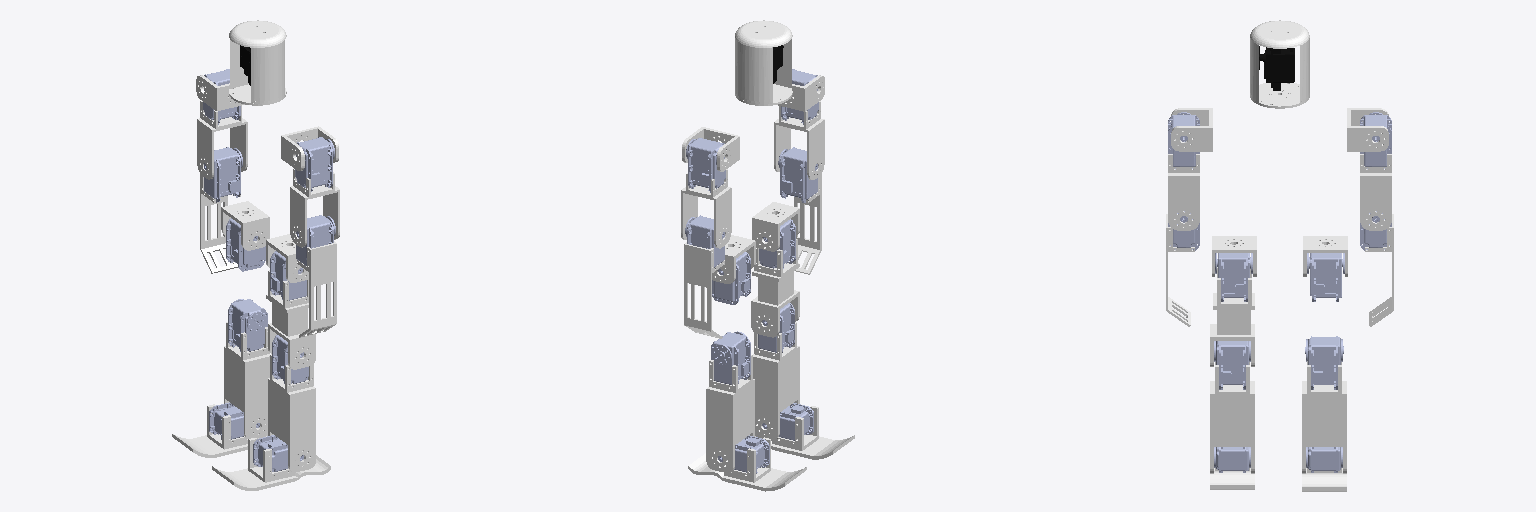
--- Render facts (derived) ---
The picture shows the robot from 3 angles, left to right: view 1: azimuth 30°, elevation 25°; view 2: azimuth 150°, elevation 25°; view 3: azimuth 270°, elevation 25°; orthographic projection.
Model Humanoid_trial_v1 with 29 links and 28 joints (15 revolute, 13 fixed), rooted at base_link, posed every joint at zero.
Links seen in each view (by area): view 1: Head_Horizontal_Link, Left_Calf_Link, Right_Calf_Link, Left_Thigh_Link, Left_Lower_Shoulder_Motor_Link, Left_Foot_Link, Right_Mid_Shoulder_Motor_Link, Left_Mid_Shoulder_Motor_Link, Right_Thigh_Joint, Right_Rot_Hip_Link, Right_Lower_Shoulder_Motor_Joint, Left_Mid_Shoulder_Motor_Joint (+12 smaller); view 2: Head_Horizontal_Link, Right_Calf_Link, Left_Calf_Link, Left_Thigh_Link, Right_Lower_Shoulder_Motor_Link, Left_Mid_Shoulder_Motor_Link, Right_Mid_Shoulder_Motor_Link, Right_Foot_Link, Right_Thigh_Joint, Left_Foot_Link, Right_Mid_Shoulder_Motor_joint, Left_Lower_Shoulder_Motor_Joint (+12 smaller); view 3: Head_Horizontal_Link, Right_Calf_Link, Left_Calf_Link, Left_Thigh_Link, Right_Mid_Shoulder_Motor_Link, Left_Mid_Shoulder_Motor_Link, Right_Thigh_Joint, Right_Hip_Joint, Left_Hip_Joint, Left_Thigh_Joint, Right_Upper_Shoulder_Link, Left_Upper_Shoulder_Motor_Link (+13 smaller).
Boxes of the visible links, x1,y1,x2,y2 form: Head_Horizontal_Link: (229, 20, 286, 105); Left_Calf_Link: (268, 354, 315, 472); Right_Calf_Link: (224, 322, 269, 438); Left_Thigh_Link: (266, 270, 315, 369); Left_Lower_Shoulder_Motor_Link: (297, 241, 336, 337); Left_Foot_Link: (212, 438, 330, 490); Right_Mid_Shoulder_Motor_Link: (197, 100, 247, 179); Left_Mid_Shoulder_Motor_Link: (290, 169, 339, 247); Right_Thigh_Joint: (228, 299, 267, 351); Right_Rot_Hip_Link: (221, 201, 269, 250); Right_Lower_Shoulder_Motor_Joint: (204, 147, 242, 202); Left_Mid_Shoulder_Motor_Joint: (295, 137, 334, 191); Head_Horizontal_Link: (735, 20, 792, 105); Right_Calf_Link: (706, 355, 754, 472); Left_Calf_Link: (753, 322, 799, 440); Left_Thigh_Link: (751, 239, 799, 337); Right_Lower_Shoulder_Motor_Link: (684, 242, 724, 338); Left_Mid_Shoulder_Motor_Link: (774, 101, 824, 179); Right_Mid_Shoulder_Motor_Link: (681, 169, 731, 248); Right_Foot_Link: (688, 437, 806, 491); Right_Thigh_Joint: (711, 331, 750, 384); Left_Foot_Link: (755, 406, 854, 459); Right_Mid_Shoulder_Motor_joint: (686, 138, 725, 192); Left_Lower_Shoulder_Motor_Joint: (778, 147, 817, 202); Head_Horizontal_Link: (1250, 20, 1309, 108); Right_Calf_Link: (1302, 361, 1346, 473); Left_Calf_Link: (1210, 362, 1254, 473); Left_Thigh_Link: (1210, 267, 1254, 366); Right_Mid_Shoulder_Motor_Link: (1360, 154, 1391, 230); Left_Mid_Shoulder_Motor_Link: (1168, 154, 1199, 230); Right_Thigh_Joint: (1305, 336, 1343, 389); Right_Hip_Joint: (1307, 253, 1344, 301); Left_Hip_Joint: (1215, 253, 1252, 301); Left_Thigh_Joint: (1214, 341, 1250, 389); Right_Upper_Shoulder_Link: (1347, 108, 1388, 151); Left_Upper_Shoulder_Motor_Link: (1171, 108, 1212, 151).
Bounding box of the posed robot: 0.1501 × 0.2876 × 0.6138 m (x, y, z).
Meshes: 29 distinct files referenced, 27 mesh visuals loaded (27 binary STL); not drawn: 2 (reference not matched to a file when rendering).

The robot description file, URDF, robot "Humanoid_trial_v1":
<?xml version="1.0" encoding="utf-8"?>
<!-- This URDF was automatically created by SolidWorks to URDF Exporter! Originally created by Stephen Brawner ([email redacted]) 
     Commit Version: 1.6.0-4-g7f85cfe  Build Version: 1.6.7995.38578
     For more information, please see http://wiki.ros.org/sw_urdf_exporter -->
<robot
  name="Humanoid_trial_v1">
  <link
    name="base_link">
    <inertial>
      <origin
        xyz="0.0430176491752011 -0.000453182569063348 0.418538866393106"
        rpy="0 0 0" />
      <mass
        value="1.49334918144846" />
      <inertia
        ixx="0.00479715486062736"
        ixy="-1.51104017800224E-06"
        ixz="-0.000448319936256381"
        iyy="0.00341285221779866"
        iyz="-2.75696218680279E-06"
        izz="0.00294236665937348" />
    </inertial>
    <visual>
      <origin
        xyz="0 0 0"
        rpy="0 0 0" />
      <geometry>
        <mesh
          filename="package://Humanoid_trial_v1/meshes/base_link.STL" />
      </geometry>
      <material
        name="">
        <color
          rgba="1 1 1 1" />
      </material>
    </visual>
    <collision>
      <origin
        xyz="0 0 0"
        rpy="0 0 0" />
      <geometry>
        <mesh
          filename="package://Humanoid_trial_v1/meshes/base_link_col.STL" />
      </geometry>
    </collision>
  </link>
  <link
    name="Right_Upper_Shoulder_Link">
    <inertial>
      <origin
        xyz="-1.04083408558608E-17 0.0155156048759659 -1.38777878078145E-17"
        rpy="0 0 0" />
      <mass
        value="0.0623876643494411" />
      <inertia
        ixx="2.27108792085224E-05"
        ixy="-1.18572491683778E-20"
        ixz="-1.3448862199829E-20"
        iyy="3.90809536959519E-05"
        iyz="-1.37253890133102E-21"
        izz="4.97719837636778E-05" />
    </inertial>
    <visual>
      <origin
        xyz="0 0 0"
        rpy="0 0 0" />
      <geometry>
        <mesh
          filename="package://Humanoid_trial_v1/meshes/Right_Upper_Shoulder_Link.STL" />
      </geometry>
      <material
        name="">
        <color
          rgba="1 1 1 1" />
      </material>
    </visual>
    <collision>
      <origin
        xyz="0 0 0"
        rpy="0 0 0" />
      <geometry>
        <mesh
          filename="package://Humanoid_trial_v1/meshes/Right_Upper_Shoulder_Link_col.STL" />
      </geometry>
    </collision>
  </link>
  <joint
    name="Right_Upper_Shoulder_Link"
    type="revolute">
    <origin
      xyz="0.045 0.0862 0.482793745640597"
      rpy="0 0 0" />
    <parent
      link="base_link" />
    <child
      link="Right_Upper_Shoulder_Link" />
    <axis
      xyz="0 1 0" />
    <limit
      lower="-3.14"
      upper="3.14"
      effort="8.4"
      velocity="4.712" />
  </joint>
  <link
    name="Right_Mid_Shoulder_Motor_joint">
    <inertial>
      <origin
        xyz="0.0258952607067394 3.17406045891033E-10 -0.0149429057817276"
        rpy="0 0 0" />
      <mass
        value="0.0736647083727735" />
      <inertia
        ixx="2.46247283514012E-05"
        ixy="-5.19855700065355E-13"
        ixz="-2.88599141150525E-07"
        iyy="2.86365059019946E-05"
        iyz="-2.16737190574932E-12"
        izz="1.6170461970441E-05" />
    </inertial>
    <visual>
      <origin
        xyz="0 0 0"
        rpy="0 0 0" />
      <geometry>
        <mesh
          filename="package://Humanoid_trial_v1/meshes/Right_Mid_Shoulder_Motor_joint.STL" />
      </geometry>
      <material
        name="">
        <color
          rgba="0.792156862745098 0.819607843137255 0.933333333333333 1" />
      </material>
    </visual>
    <collision>
      <origin
        xyz="0 0 0"
        rpy="0 0 0" />
      <geometry>
        <mesh
          filename="package://Humanoid_trial_v1/meshes/Right_Mid_Shoulder_Motor_joint_col.STL" />
      </geometry>
    </collision>
  </link>
  <joint
    name="Right_Mid_Shoulder_Motor_joint"
    type="revolute">
    <origin
      xyz="-0.026 0.0345 0"
      rpy="0 0 0" />
    <parent
      link="Right_Upper_Shoulder_Link" />
    <child
      link="Right_Mid_Shoulder_Motor_joint" />
    <axis
      xyz="1 0 0" />
    <limit
      lower="-3.14"
      upper="3.14"
      effort="6"
      velocity="6.59" />
  </joint>
  <link
    name="Right_Mid_Shoulder_Motor_Link">
    <inertial>
      <origin
        xyz="0.0269879659134012 7.80769137537218E-08 -0.0706544117353011"
        rpy="0 0 0" />
      <mass
        value="0.0806358441704838" />
      <inertia
        ixx="4.61390252483244E-05"
        ixy="-1.32513604909904E-20"
        ixz="4.40177156678979E-20"
        iyy="7.02676065762006E-05"
        iyz="2.79105262089769E-10"
        izz="4.6791397698938E-05" />
    </inertial>
    <visual>
      <origin
        xyz="0 0 0"
        rpy="0 0 0" />
      <geometry>
        <mesh
          filename="package://Humanoid_trial_v1/meshes/Right_Mid_Shoulder_Motor_Link.STL" />
      </geometry>
      <material
        name="">
        <color
          rgba="1 1 1 1" />
      </material>
    </visual>
    <collision>
      <origin
        xyz="0 0 0"
        rpy="0 0 0" />
      <geometry>
        <mesh
          filename="package://Humanoid_trial_v1/meshes/Right_Mid_Shoulder_Motor_Link_col.STL" />
      </geometry>
    </collision>
  </link>
  <joint
    name="Right_Mid_Shoulder_Motor_Link"
    type="fixed">
    <origin
      xyz="0 0 0"
      rpy="0 0 0" />
    <parent
      link="Right_Mid_Shoulder_Motor_joint" />
    <child
      link="Right_Mid_Shoulder_Motor_Link" />
    <axis
      xyz="0 0 0" />
    <limit
      lower="-3.14"
      upper="3.14"
      effort="6"
      velocity="6.59" />
  </joint>
  <link
    name="Right_Lower_Shoulder_Motor_Joint">
    <inertial>
      <origin
        xyz="0.0251047392932605 -3.17406045891033E-10 -0.0149429057817277"
        rpy="0 0 0" />
      <mass
        value="0.0736647083727734" />
      <inertia
        ixx="2.46247283514012E-05"
        ixy="-5.19855698213995E-13"
        ixz="2.88599141150525E-07"
        iyy="2.86365059019946E-05"
        iyz="2.16737190554142E-12"
        izz="1.6170461970441E-05" />
    </inertial>
    <visual>
      <origin
        xyz="0 0 0"
        rpy="0 0 0" />
      <geometry>
        <mesh
          filename="package://Humanoid_trial_v1/meshes/Right_Lower_Shoulder_Motor_Joint.STL" />
      </geometry>
      <material
        name="">
        <color
          rgba="0.792156862745098 0.819607843137255 0.933333333333333 1" />
      </material>
    </visual>
    <collision>
      <origin
        xyz="0 0 0"
        rpy="0 0 0" />
      <geometry>
        <mesh
          filename="package://Humanoid_trial_v1/meshes/Right_Lower_Shoulder_Motor_Joint_col.STL" />
      </geometry>
    </collision>
  </link>
  <joint
    name="Right_Lower_Shoulder_Motor_Joint"
    type="revolute">
    <origin
      xyz="0.0023000000000001 0 -0.1116"
      rpy="0 0 0" />
    <parent
      link="Right_Mid_Shoulder_Motor_Link" />
    <child
      link="Right_Lower_Shoulder_Motor_Joint" />
    <axis
      xyz="1 0 0" />
    <limit
      lower="-3.14"
      upper="3.14"
      effort="6"
      velocity="6.49" />
  </joint>
  <link
    name="Right_Lower_Shoulder_Motor_Link">
    <inertial>
      <origin
        xyz="0.025 0.0174564345978791 -0.0759303261235977"
        rpy="0 0 0" />
      <mass
        value="0.0424656515800133" />
      <inertia
        ixx="8.19300764676948E-05"
        ixy="-9.88235341642274E-21"
        ixz="-1.51746139564742E-20"
        iyy="8.64054181304533E-05"
        iyz="-5.75845941734109E-06"
        izz="1.02790189173541E-05" />
    </inertial>
    <visual>
      <origin
        xyz="0 0 0"
        rpy="0 0 0" />
      <geometry>
        <mesh
          filename="package://Humanoid_trial_v1/meshes/Right_Lower_Shoulder_Motor_Link.STL" />
      </geometry>
      <material
        name="">
        <color
          rgba="1 1 1 1" />
      </material>
    </visual>
    <collision>
      <origin
        xyz="0 0 0"
        rpy="0 0 0" />
      <geometry>
        <mesh
          filename="package://Humanoid_trial_v1/meshes/Right_Lower_Shoulder_Motor_Link_col.STL" />
      </geometry>
    </collision>
  </link>
  <joint
    name="Right_Lower_Shoulder_Motor_Link"
    type="fixed">
    <origin
      xyz="0 0 0"
      rpy="0 0 0" />
    <parent
      link="Right_Lower_Shoulder_Motor_Joint" />
    <child
      link="Right_Lower_Shoulder_Motor_Link" />
    <axis
      xyz="0 0 0" />
  </joint>
  <link
    name="Left_Upper_Shoulder_Motor_Link">
    <inertial>
      <origin
        xyz="-1.56125112837913E-17 -0.0155156048759659 6.93889390390723E-18"
        rpy="0 0 0" />
      <mass
        value="0.0623876643494411" />
      <inertia
        ixx="2.27108792085224E-05"
        ixy="7.05033835013636E-21"
        ixz="-9.55551127244306E-22"
        iyy="3.90809536959519E-05"
        iyz="-4.71413279327172E-21"
        izz="4.97719837636778E-05" />
    </inertial>
    <visual>
      <origin
        xyz="0 0 0"
        rpy="0 0 0" />
      <geometry>
        <mesh
          filename="package://Humanoid_trial_v1/meshes/Left_Upper_Shoulder_Motor_Link.STL" />
      </geometry>
      <material
        name="">
        <color
          rgba="1 1 1 1" />
      </material>
    </visual>
    <collision>
      <origin
        xyz="0 0 0"
        rpy="0 0 0" />
      <geometry>
        <mesh
          filename="package://Humanoid_trial_v1/meshes/Left_Upper_Shoulder_Motor_Link_col.STL" />
      </geometry>
    </collision>
  </link>
  <joint
    name="Left_Upper_Shoulder_Motor_Link"
    type="revolute">
    <origin
      xyz="0.045 -0.0862 0.482793745640597"
      rpy="0 0 0" />
    <parent
      link="base_link" />
    <child
      link="Left_Upper_Shoulder_Motor_Link" />
    <axis
      xyz="0 -1 0" />
    <limit
      lower="-3.14"
      upper="3.14"
      effort="8.4"
      velocity="4.712" />
  </joint>
  <link
    name="Left_Mid_Shoulder_Motor_Joint">
    <inertial>
      <origin
        xyz="0.0258952607067394 3.17406712024848E-10 -0.0149429057817259"
        rpy="0 0 0" />
      <mass
        value="0.0736647083727734" />
      <inertia
        ixx="2.46247283514012E-05"
        ixy="-5.1985570165149E-13"
        ixz="-2.88599141150519E-07"
        iyy="2.86365059019945E-05"
        iyz="-2.16737191193812E-12"
        izz="1.6170461970441E-05" />
    </inertial>
    <visual>
      <origin
        xyz="0 0 0"
        rpy="0 0 0" />
      <geometry>
        <mesh
          filename="package://Humanoid_trial_v1/meshes/Left_Mid_Shoulder_Motor_Joint.STL" />
      </geometry>
      <material
        name="">
        <color
          rgba="0.792156862745098 0.819607843137255 0.933333333333333 1" />
      </material>
    </visual>
    <collision>
      <origin
        xyz="0 0 0"
        rpy="0 0 0" />
      <geometry>
        <mesh
          filename="package://Humanoid_trial_v1/meshes/Left_Mid_Shoulder_Motor_Joint_col.STL" />
      </geometry>
    </collision>
  </link>
  <joint
    name="Left_Mid_Shoulder_Motor_Joint"
    type="revolute">
    <origin
      xyz="-0.026 -0.0345 0"
      rpy="0 0 0" />
    <parent
      link="Left_Upper_Shoulder_Motor_Link" />
    <child
      link="Left_Mid_Shoulder_Motor_Joint" />
    <axis
      xyz="1 0 0" />
    <limit
      lower="-3.14"
      upper="3.14"
      effort="6"
      velocity="6.59" />
  </joint>
  <link
    name="Left_Mid_Shoulder_Motor_Link">
    <inertial>
      <origin
        xyz="0.0246879659134011 7.80769138231108E-08 0.040945588264699"
        rpy="0 0 0" />
      <mass
        value="0.0806358441704837" />
      <inertia
        ixx="4.61390252483243E-05"
        ixy="2.28733559332138E-20"
        ixz="3.30539070777911E-20"
        iyy="7.02676065762005E-05"
        iyz="2.79105262104152E-10"
        izz="4.6791397698938E-05" />
    </inertial>
    <visual>
      <origin
        xyz="0 0 0"
        rpy="0 0 0" />
      <geometry>
        <mesh
          filename="package://Humanoid_trial_v1/meshes/Left_Mid_Shoulder_Motor_Link.STL" />
      </geometry>
      <material
        name="">
        <color
          rgba="1 1 1 1" />
      </material>
    </visual>
    <collision>
      <origin
        xyz="0 0 0"
        rpy="0 0 0" />
      <geometry>
        <mesh
          filename="package://Humanoid_trial_v1/meshes/Left_Mid_Shoulder_Motor_Link_col.STL" />
      </geometry>
    </collision>
  </link>
  <joint
    name="Left_Mid_Shoulder_Motor_Link"
    type="fixed">
    <origin
      xyz="0.00230000000000015 0 -0.111599999999998"
      rpy="0 0 0" />
    <parent
      link="Left_Mid_Shoulder_Motor_Joint" />
    <child
      link="Left_Mid_Shoulder_Motor_Link" />
    <axis
      xyz="0 0 0" />
    <limit
      lower="-3.14"
      upper="3.14"
      effort="6"
      velocity="6.59" />
  </joint>
  <link
    name="Left_Lower_Shoulder_Motor_Joint">
    <inertial>
      <origin
        xyz="0.0251047392932605 -3.17405990379882E-10 -0.0149429057817277"
        rpy="0 0 0" />
      <mass
        value="0.0736647083727735" />
      <inertia
        ixx="2.46247283514012E-05"
        ixy="-5.19855694966481E-13"
        ixz="2.88599141150531E-07"
        iyy="2.86365059019946E-05"
        iyz="2.16737192093707E-12"
        izz="1.6170461970441E-05" />
    </inertial>
    <visual>
      <origin
        xyz="0 0 0"
        rpy="0 0 0" />
      <geometry>
        <mesh
          filename="package://Humanoid_trial_v1/meshes/Left_Lower_Shoulder_Motor_Joint.STL" />
      </geometry>
      <material
        name="">
        <color
          rgba="0.792156862745098 0.819607843137255 0.933333333333333 1" />
      </material>
    </visual>
    <collision>
      <origin
        xyz="0 0 0"
        rpy="0 0 0" />
      <geometry>
        <mesh
          filename="package://Humanoid_trial_v1/meshes/Left_Lower_Shoulder_Motor_Joint_col.STL" />
      </geometry>
    </collision>
  </link>
  <joint
    name="Left_Lower_Shoulder_Motor_Joint"
    type="revolute">
    <origin
      xyz="0 0 0"
      rpy="0 0 0" />
    <parent
      link="Left_Mid_Shoulder_Motor_Link" />
    <child
      link="Left_Lower_Shoulder_Motor_Joint" />
    <axis
      xyz="1 0 0" />
    <limit
      lower="-3.14"
      upper="3.14"
      effort="6"
      velocity="6.59" />
  </joint>
  <link
    name="Left_Lower_Shoulder_Motor_Link">
    <inertial>
      <origin
        xyz="0.0249999999999999 -0.0174564345978791 -0.0759303261235977"
        rpy="0 0 0" />
      <mass
        value="0.0424656515800132" />
      <inertia
        ixx="8.19300764676947E-05"
        ixy="-1.58460062384994E-20"
        ixz="2.25591490530647E-20"
        iyy="8.64054181304532E-05"
        iyz="5.75845941734104E-06"
        izz="1.02790189173541E-05" />
    </inertial>
    <visual>
      <origin
        xyz="0 0 0"
        rpy="0 0 0" />
      <geometry>
        <mesh
          filename="package://Humanoid_trial_v1/meshes/Left_Lower_Shoulder_Motor_Link.STL" />
      </geometry>
      <material
        name="">
        <color
          rgba="1 1 1 1" />
      </material>
    </visual>
    <collision>
      <origin
        xyz="0 0 0"
        rpy="0 0 0" />
      <geometry>
        <mesh
          filename="package://Humanoid_trial_v1/meshes/Left_Lower_Shoulder_Motor_Link_col.STL" />
      </geometry>
    </collision>
  </link>
  <joint
    name="Left_Lower_Shoulder_Motor_Link"
    type="fixed">
    <origin
      xyz="0 0 0"
      rpy="0 0 0" />
    <parent
      link="Left_Lower_Shoulder_Motor_Joint" />
    <child
      link="Left_Lower_Shoulder_Motor_Link" />
    <axis
      xyz="0 0 0" />
  </joint>
  <link
    name="Head_Horizontal_Joint">
    <inertial>
      <origin
        xyz="-3.33066907387547E-16 -3.40005801291454E-16 -0.0030152590373571"
        rpy="0 0 0" />
      <mass
        value="0.00111626148570573" />
      <inertia
        ixx="4.82639155849164E-08"
        ixy="-1.73219057791091E-22"
        ixz="1.40385348457801E-22"
        iyy="4.82639155849167E-08"
        iyz="1.07574858178469E-22"
        izz="9.3541039021488E-08" />
    </inertial>
    <visual>
      <origin
        xyz="0 0 0"
        rpy="0 0 0" />
      <geometry>
        <mesh
          filename="package://Humanoid_trial_v1/meshes/Head_Horizontal_Joint.STL" />
      </geometry>
      <material
        name="">
        <color
          rgba="0.0980392156862745 0.0980392156862745 0.0980392156862745 1" />
      </material>
    </visual>
    <collision>
      <origin
        xyz="0 0 0"
        rpy="0 0 0" />
      <geometry>
        <mesh
          filename="package://Humanoid_trial_v1/meshes/Head_Horizontal_Joint_col.STL" />
      </geometry>
    </collision>
  </link>
  <joint
    name="Head_Horizontal_Joint"
    type="fixed">
    <origin
      xyz="0.0299 0 0.52423"
      rpy="0 0 0" />
    <parent
      link="base_link" />
    <child
      link="Head_Horizontal_Joint" />
    <axis
      xyz="0 0 0" />
    <limit
      lower="-3.14"
      upper="3.14"
      effort="1.078"
      velocity="6.159" />
  </joint>
  <link
    name="Head_Horizontal_Link">
    <inertial>
      <origin
        xyz="-7.87562638499039E-06 0.00201115454739927 0.0487202946714503"
        rpy="0 0 0" />
      <mass
        value="0.303465343153983" />
      <inertia
        ixx="0.000344175728907107"
        ixy="3.23416736013699E-08"
        ixz="2.14300139921825E-08"
        iyy="0.000252456081700297"
        iyz="1.03645901492167E-05"
        izz="0.000226216286281721" />
    </inertial>
    <visual>
      <origin
        xyz="0 0 0"
        rpy="0 0 0" />
      <geometry>
        <mesh
          filename="package://Humanoid_trial_v1/meshes/Head_Horizontal_Link.STL" />
      </geometry>
      <material
        name="">
        <color
          rgba="1 1 1 1" />
      </material>
    </visual>
    <collision>
      <origin
        xyz="0 0 0"
        rpy="0 0 0" />
      <geometry>
        <mesh
          filename="package://Humanoid_trial_v1/meshes/Head_Horizontal_Link_col.STL" />
      </geometry>
    </collision>
  </link>
  <joint
    name="Head_Horizontal_Link"
    type="fixed">
    <origin
      xyz="0 0 0"
      rpy="0 0 0" />
    <parent
      link="Head_Horizontal_Joint" />
    <child
      link="Head_Horizontal_Link" />
    <axis
      xyz="0 0 0" />
    <limit
      lower="-3.14"
      upper="3.14"
      effort="1.078"
      velocity="6.159" />
  </joint>
  <link
    name="Head_Vertical_Joint">
    <inertial>
      <origin
        xyz="-4.47258300348224E-06 0.0030152557202275 3.60822483003176E-16"
        rpy="0 0 0" />
      <mass
        value="0.00111626148570573" />
      <inertia
        ixx="4.82640152048832E-08"
        ixy="-6.7160223193471E-11"
        ixz="1.23317786206834E-22"
        iyy="9.35409394015219E-08"
        iyz="5.79189999909827E-23"
        izz="4.82639155849166E-08" />
    </inertial>
    <visual>
      <origin
        xyz="0 0 0"
        rpy="0 0 0" />
      <geometry>
        <mesh
          filename="package://Humanoid_trial_v1/meshes/Head_Vertical_Joint.STL" />
      </geometry>
      <material
        name="">
        <color
          rgba="0.0980392156862745 0.0980392156862745 0.0980392156862745 1" />
      </material>
    </visual>
    <collision>
      <origin
        xyz="0 0 0"
        rpy="0 0 0" />
      <geometry>
        <mesh
          filename="package://Humanoid_trial_v1/meshes/Head_Vertical_Joint_col.STL" />
      </geometry>
    </collision>
  </link>
  <joint
    name="Head_Vertical_Joint"
    type="revolute">
    <origin
      xyz="4.22745157250641E-05 -0.0284999686467428 0.0515"
      rpy="0 0 0" />
    <parent
      link="Head_Horizontal_Link" />
    <child
      link="Head_Vertical_Joint" />
    <axis
      xyz="0.00148331634123044 -0.999998899885711 0" />
    <limit
      lower="-3.14"
      upper="3.14"
      effort="1.078"
      velocity="6.519" />
  </joint>
  <link
    name="Head_Vertical_Link">
    <inertial>
      <origin
        xyz="-0.0079740313537437 0.0257820432407331 -0.00633555775853176"
        rpy="0 0 0" />
      <mass
        value="0.0336929106124403" />
      <inertia
        ixx="1.23288476738362E-05"
        ixy="1.61107638846102E-07"
        ixz="7.16221856227105E-07"
        iyy="1.33519522742047E-05"
        iyz="-1.3390176525745E-07"
        izz="3.28226792350478E-06" />
    </inertial>
    <visual>
      <origin
        xyz="0 0 0"
        rpy="0 0 0" />
      <geometry>
        <mesh
          filename="package://Humanoid_trial_v1/meshes/Head_Vertical_Link.STL" />
      </geometry>
      <material
        name="">
        <color
          rgba="0.0980392156862745 0.0980392156862745 0.0980392156862745 1" />
      </material>
    </visual>
    <collision>
      <origin
        xyz="0 0 0"
        rpy="0 0 0" />
      <geometry>
        <mesh
          filename="package://Humanoid_trial_v1/meshes/Head_Vertical_Link_col.STL" />
      </geometry>
    </collision>
  </link>
  <joint
    name="Head_Vertical_Link"
    type="fixed">
    <origin
      xyz="0 0 0"
      rpy="0 0 0" />
    <parent
      link="Head_Vertical_Joint" />
    <child
      link="Head_Vertical_Link" />
    <axis
      xyz="0 0 0" />
  </joint>
  <link
    name="Right_Rot_Hip_Link">
    <inertial>
      <origin
        xyz="-1.38777878078145E-17 -3.90312782094782E-17 -0.0108026519831317"
        rpy="0 0 0" />
      <mass
        value="0.0642422648022387" />
      <inertia
        ixx="4.229626009049E-05"
        ixy="-1.92822551221405E-21"
        ixz="-1.20711691044153E-20"
        iyy="1.91108022562779E-05"
        iyz="-2.09596554273217E-20"
        izz="4.09654383516233E-05" />
    </inertial>
    <visual>
      <origin
        xyz="0 0 0"
        rpy="0 0 0" />
      <geometry>
        <mesh
          filename="package://Humanoid_trial_v1/meshes/Right_Rot_Hip_Link.STL" />
      </geometry>
      <material
        name="">
        <color
          rgba="1 1 1 1" />
      </material>
    </visual>
    <collision>
      <origin
        xyz="0 0 0"
        rpy="0 0 0" />
      <geometry>
        <mesh
          filename="package://Humanoid_trial_v1/meshes/Right_Rot_Hip_Link_col.STL" />
      </geometry>
    </collision>
  </link>
  <joint
    name="Right_Rot_Hip_Link"
    type="revolute">
    <origin
      xyz="0.045 0.0576361191366067 0.32318"
      rpy="0 0 0" />
    <parent
      link="base_link" />
    <child
      link="Right_Rot_Hip_Link" />
    <axis
      xyz="0 0 1" />
    <limit
      lower="-3.14"
      upper="3.14"
      effort="8.4"
      velocity="4.712" />
  </joint>
  <link
    name="Right_Hip_Joint">
    <inertial>
      <origin
        xyz="-3.17406042421586E-10 -0.0261047392932606 -0.0149429057817277"
        rpy="0 0 0" />
      <mass
        value="0.0736647083727735" />
      <inertia
        ixx="2.86365059019946E-05"
        ixy="5.19855697428651E-13"
        ixz="2.16737191403036E-12"
        iyy="2.46247283514012E-05"
        iyz="-2.88599141150534E-07"
        izz="1.61704619704411E-05" />
    </inertial>
    <visual>
      <origin
        xyz="0 0 0"
        rpy="0 0 0" />
      <geometry>
        <mesh
          filename="package://Humanoid_trial_v1/meshes/Right_Hip_Joint.STL" />
      </geometry>
      <material
        name="">
        <color
          rgba="0.792156862745098 0.819607843137255 0.933333333333333 1" />
      </material>
    </visual>
    <collision>
      <origin
        xyz="0 0 0"
        rpy="0 0 0" />
      <geometry>
        <mesh
          filename="package://Humanoid_trial_v1/meshes/Right_Hip_Joint_col.STL" />
      </geometry>
    </collision>
  </link>
  <joint
    name="Right_Hip_Joint"
    type="revolute">
    <origin
      xyz="0 0.026 -0.025"
      rpy="0 0 0" />
    <parent
      link="Right_Rot_Hip_Link" />
    <child
      link="Right_Hip_Joint" />
    <axis
      xyz="0 1 0" />
    <limit
      lower="-3.14"
      upper="3.14"
      effort="6"
      velocity="6.59" />
  </joint>
  <link
    name="Right_Thigh_Link">
    <inertial>
      <origin
        xyz="-0.0014546014040024 -0.0245457629701891 0.0427776710158242"
        rpy="0 0 0" />
      <mass
        value="0.255499669362129" />
      <inertia
        ixx="0.000214826126005653"
        ixy="2.02832904894491E-07"
        ixz="4.17202670275441E-06"
        iyy="0.000173917558050204"
        iyz="-4.16800126098555E-06"
        izz="9.72909468757748E-05" />
    </inertial>
    <visual>
      <origin
        xyz="0 0 0"
        rpy="0 0 0" />
      <geometry>
        <mesh
          filename="package://Humanoid_trial_v1/meshes/Right_Thigh_Link.STL" />
      </geometry>
      <material
        name="">
        <color
          rgba="1 1 1 1" />
      </material>
    </visual>
    <collision>
      <origin
        xyz="0 0 0"
        rpy="0 0 0" />
      <geometry>
        <mesh
          filename="package://Humanoid_trial_v1/meshes/Right_Thigh_Link_col.STL" />
      </geometry>
    </collision>
  </link>
  <joint
    name="Right_Thigh_Link"
    type="fixed">
    <origin
      xyz="0.00200000000000002 -0.00199999999999994 -0.12045"
      rpy="0 0 0" />
    <parent
      link="Right_Hip_Joint" />
    <child
      link="Right_Thigh_Link" />
    <axis
      xyz="0 0 0" />
    <limit
      lower="-3.14"
      upper="3.14"
      effort="6"
      velocity="6.59" />
  </joint>
  <link
    name="Right_Thigh_Joint">
    <inertial>
      <origin
        xyz="-3.17406037217416E-10 -0.0261047392932606 -0.0149429057817276"
        rpy="0 0 0" />
      <mass
        value="0.0736647083727736" />
      <inertia
        ixx="2.86365059019947E-05"
        ixy="5.19855699165481E-13"
        ixz="2.16737190585169E-12"
        iyy="2.46247283514012E-05"
        iyz="-2.88599141150551E-07"
        izz="1.61704619704411E-05" />
    </inertial>
    <visual>
      <origin
        xyz="0 0 0"
        rpy="0 0 0" />
      <geometry>
        <mesh
          filename="package://Humanoid_trial_v1/meshes/Right_Thigh_Joint.STL" />
      </geometry>
      <material
        name="">
        <color
          rgba="0.792156862745098 0.819607843137255 0.933333333333333 1" />
      </material>
    </visual>
    <collision>
      <origin
        xyz="0 0 0"
        rpy="0 0 0" />
      <geometry>
        <mesh
          filename="package://Humanoid_trial_v1/meshes/Right_Thigh_Joint_col.STL" />
      </geometry>
    </collision>
  </link>
  <joint
    name="Right_Thigh_Joint"
    type="revolute">
    <origin
      xyz="0 0 0"
      rpy="0 0 0" />
    <parent
      link="Right_Thigh_Link" />
    <child
      link="Right_Thigh_Joint" />
    <axis
      xyz="0 -1 0" />
    <limit
      lower="-3.14"
      upper="3.14"
      effort="6"
      velocity="6.59" />
  </joint>
  <link
    name="Right_Calf_Link">
    <inertial>
      <origin
        xyz="-4.54600153295542E-07 -0.026 0.0551065300535402"
        rpy="0 0 0" />
      <mass
        value="0.204789824162128" />
      <inertia
        ixx="0.000359428148565619"
        ixy="-1.09069880921943E-20"
        ixz="5.4080456485365E-09"
        iyy="0.000311485239434949"
        iyz="-6.31128185290975E-20"
        izz="0.000129082856540219" />
    </inertial>
    <visual>
      <origin
        xyz="0 0 0"
        rpy="0 0 0" />
      <geometry>
        <mesh
          filename="package://Humanoid_trial_v1/meshes/Right_Calf_Link.STL" />
      </geometry>
      <material
        name="">
        <color
          rgba="1 1 1 1" />
      </material>
    </visual>
    <collision>
      <origin
        xyz="0 0 0"
        rpy="0 0 0" />
      <geometry>
        <mesh
          filename="package://Humanoid_trial_v1/meshes/Right_Calf_Link_col.STL" />
      </geometry>
    </collision>
  </link>
  <joint
    name="Right_Calf_Link"
    type="fixed">
    <origin
      xyz="0 0 -0.14763"
      rpy="0 0 0" />
    <parent
      link="Right_Thigh_Joint" />
    <child
      link="Right_Calf_Link" />
    <axis
      xyz="0 0 0" />
  </joint>
  <link
    name="Right_Calf_Joint">
    <inertial>
      <origin
        xyz="-0.0149429057817277 -0.0261047392932606 3.17405934868731E-10"
        rpy="0 0 0" />
      <mass
        value="0.0736647083727734" />
      <inertia
        ixx="1.6170461970441E-05"
        ixy="-2.88599141150527E-07"
        ixz="-2.16737191618278E-12"
        iyy="2.46247283514012E-05"
        iyz="-5.19855694980773E-13"
        izz="2.86365059019946E-05" />
    </inertial>
    <visual>
      <origin
        xyz="0 0 0"
        rpy="0 0 0" />
      <geometry>
        <mesh
          filename="package://Humanoid_trial_v1/meshes/Right_Calf_Joint.STL" />
      </geometry>
      <material
        name="">
        <color
          rgba="0.792156862745098 0.819607843137255 0.933333333333333 1" />
      </material>
    </visual>
    <collision>
      <origin
        xyz="0 0 0"
        rpy="0 0 0" />
      <geometry>
        <mesh
          filename="package://Humanoid_trial_v1/meshes/Right_Calf_Joint_col.STL" />
      </geometry>
    </collision>
  </link>
  <joint
    name="Right_Calf_Joint"
    type="revolute">
    <origin
      xyz="0 0 0"
      rpy="0 0 0" />
    <parent
      link="Right_Calf_Link" />
    <child
      link="Right_Calf_Joint" />
    <axis
      xyz="0 1 0" />
    <limit
      lower="-3.14"
      upper="3.14"
      effort="6"
      velocity="6.59" />
  </joint>
  <link
    name="Right_Foot_Link">
    <inertial>
      <origin
        xyz="-0.0266673647470949 -0.0259998700791342 -0.0229259121530594"
        rpy="0 0 0" />
      <mass
        value="0.154600544458305" />
      <inertia
        ixx="4.7616957773364E-05"
        ixy="1.07372108569465E-10"
        ixz="7.76246239578988E-06"
        iyy="0.00021156033981235"
        iyz="-2.63196107697146E-09"
        izz="0.000245380775539227" />
    </inertial>
    <visual>
      <origin
        xyz="0 0 0"
        rpy="0 0 0" />
      <geometry>
        <mesh
          filename="package://Humanoid_trial_v1/meshes/Right_Foot_Link.STL" />
      </geometry>
      <material
        name="">
        <color
          rgba="1 1 1 1" />
      </material>
    </visual>
    <collision>
      <origin
        xyz="0 0 0"
        rpy="0 0 0" />
      <geometry>
        <mesh
          filename="package://Humanoid_trial_v1/meshes/Right_Foot_Link_col.STL" />
      </geometry>
    </collision>
  </link>
  <joint
    name="Right_Foot_Link"
    type="fixed">
    <origin
      xyz="0 0 0"
      rpy="0 0 0" />
    <parent
      link="Right_Calf_Joint" />
    <child
      link="Right_Foot_Link" />
    <axis
      xyz="0 0 0" />
  </joint>
  <link
    name="Left_Rot_Hip_Link">
    <inertial>
      <origin
        xyz="-1.04083408558608E-17 -4.16333634234434E-17 -0.0108026519831317"
        rpy="0 0 0" />
      <mass
        value="0.0642422648022388" />
      <inertia
        ixx="4.22962600904901E-05"
        ixy="-3.27207586857929E-21"
        ixz="-1.97760315504255E-20"
        iyy="1.9110802256278E-05"
        iyz="-2.74627591718684E-20"
        izz="4.09654383516234E-05" />
    </inertial>
    <visual>
      <origin
        xyz="0 0 0"
        rpy="0 0 0" />
      <geometry>
        <mesh
          filename="package://Humanoid_trial_v1/meshes/Left_Rot_Hip_Link.STL" />
      </geometry>
      <material
        name="">
        <color
          rgba="1 1 1 1" />
      </material>
    </visual>
    <collision>
      <origin
        xyz="0 0 0"
        rpy="0 0 0" />
      <geometry>
        <mesh
          filename="package://Humanoid_trial_v1/meshes/Left_Rot_Hip_Link_col.STL" />
      </geometry>
    </collision>
  </link>
  <joint
    name="Left_Rot_Hip_Link"
    type="revolute">
    <origin
      xyz="0.045 -0.0576361191366067 0.32318"
      rpy="0 0 0" />
    <parent
      link="base_link" />
    <child
      link="Left_Rot_Hip_Link" />
    <axis
      xyz="0 0 1" />
    <limit
      lower="-3.14"
      upper="3.14"
      effort="8.4"
      velocity="4.712" />
  </joint>
  <link
    name="Left_Hip_Joint">
    <inertial>
      <origin
        xyz="3.17406094463291E-10 0.0261047392932606 -0.0149429057817277"
        rpy="0 0 0" />
      <mass
        value="0.0736647083727735" />
      <inertia
        ixx="2.86365059019947E-05"
        ixy="5.19855696434263E-13"
        ixz="-2.16737189675631E-12"
        iyy="2.46247283514012E-05"
        iyz="2.88599141150528E-07"
        izz="1.61704619704411E-05" />
    </inertial>
    <visual>
      <origin
        xyz="0 0 0"
        rpy="0 0 0" />
      <geometry>
        <mesh
          filename="package://Humanoid_trial_v1/meshes/Left_Hip_Joint.STL" />
      </geometry>
      <material
        name="">
        <color
          rgba="0.792156862745098 0.819607843137255 0.933333333333333 1" />
      </material>
    </visual>
    <collision>
      <origin
        xyz="0 0 0"
        rpy="0 0 0" />
      <geometry>
        <mesh
          filename="package://Humanoid_trial_v1/meshes/Left_Hip_Joint_col.STL" />
      </geometry>
    </collision>
  </link>
  <joint
    name="Left_Hip_Joint"
    type="revolute">
    <origin
      xyz="0 -0.026 -0.025"
      rpy="0 0 0" />
    <parent
      link="Left_Rot_Hip_Link" />
    <child
      link="Left_Hip_Joint" />
    <axis
      xyz="0 1 0" />
    <limit
      lower="-3.14"
      upper="3.14"
      effort="6"
      velocity="6.59" />
  </joint>
  <link
    name="Left_Thigh_Link">
    <inertial>
      <origin
        xyz="-0.00145460140400241 0.0274542370298109 0.0427776710158242"
        rpy="0 0 0" />
      <mass
        value="0.255499669362129" />
      <inertia
        ixx="0.000214826126005653"
        ixy="2.02832904894504E-07"
        ixz="4.17202670275439E-06"
        iyy="0.000173917558050204"
        iyz="-4.16800126098552E-06"
        izz="9.72909468757747E-05" />
    </inertial>
    <visual>
      <origin
        xyz="0 0 0"
        rpy="0 0 0" />
      <geometry>
        <mesh
          filename="package://Humanoid_trial_v1/meshes/Left_Thigh_Link.STL" />
      </geometry>
      <material
        name="">
        <color
          rgba="1 1 1 1" />
      </material>
    </visual>
    <collision>
      <origin
        xyz="0 0 0"
        rpy="0 0 0" />
      <geometry>
        <mesh
          filename="package://Humanoid_trial_v1/meshes/Left_Thigh_Link_col.STL" />
      </geometry>
    </collision>
  </link>
  <joint
    name="Left_Thigh_Link"
    type="fixed">
    <origin
      xyz="0.00190000000000005 -0.00200000000000003 -0.12045"
      rpy="0 0 0" />
    <parent
      link="Left_Hip_Joint" />
    <child
      link="Left_Thigh_Link" />
    <axis
      xyz="0 0 0" />
    <limit
      lower="-3.14"
      upper="3.14"
      effort="6"
      velocity="6.59" />
  </joint>
  <link
    name="Left_Thigh_Joint">
    <inertial>
      <origin
        xyz="-3.17406040686863E-10 0.0258952607067394 -0.0149429057817277"
        rpy="0 0 0" />
      <mass
        value="0.0736647083727735" />
      <inertia
        ixx="2.86365059019947E-05"
        ixy="5.19855700981058E-13"
        ixz="2.16737192038797E-12"
        iyy="2.46247283514012E-05"
        iyz="-2.88599141150548E-07"
        izz="1.61704619704411E-05" />
    </inertial>
    <visual>
      <origin
        xyz="0 0 0"
        rpy="0 0 0" />
      <geometry>
        <mesh
          filename="package://Humanoid_trial_v1/meshes/Left_Thigh_Joint.STL" />
      </geometry>
      <material
        name="">
        <color
          rgba="0.792156862745098 0.819607843137255 0.933333333333333 1" />
      </material>
    </visual>
    <collision>
      <origin
        xyz="0 0 0"
        rpy="0 0 0" />
      <geometry>
        <mesh
          filename="package://Humanoid_trial_v1/meshes/Left_Thigh_Joint_col.STL" />
      </geometry>
    </collision>
  </link>
  <joint
    name="Left_Thigh_Joint"
    type="revolute">
    <origin
      xyz="0 0 0"
      rpy="0 0 0" />
    <parent
      link="Left_Thigh_Link" />
    <child
      link="Left_Thigh_Joint" />
    <axis
      xyz="0 -1 0" />
    <limit
      lower="-3.14"
      upper="3.14"
      effort="6"
      velocity="6.59" />
  </joint>
  <link
    name="Left_Calf_Link">
    <inertial>
      <origin
        xyz="-4.54600153295542E-07 0.0260000000000001 0.0551065300535403"
        rpy="0 0 0" />
      <mass
        value="0.204789824162128" />
      <inertia
        ixx="0.000359428148565619"
        ixy="-9.54664746628735E-21"
        ixz="5.40804564853616E-09"
        iyy="0.000311485239434949"
        iyz="-1.60767959261005E-19"
        izz="0.000129082856540219" />
    </inertial>
    <visual>
      <origin
        xyz="0 0 0"
        rpy="0 0 0" />
      <geometry>
        <mesh
          filename="package://Humanoid_trial_v1/meshes/Left_Calf_Link.STL" />
      </geometry>
      <material
        name="">
        <color
          rgba="1 1 1 1" />
      </material>
    </visual>
    <collision>
      <origin
        xyz="0 0 0"
        rpy="0 0 0" />
      <geometry>
        <mesh
          filename="package://Humanoid_trial_v1/meshes/Left_Calf_Link_col.STL" />
      </geometry>
    </collision>
  </link>
  <joint
    name="Left_Calf_Link"
    type="fixed">
    <origin
      xyz="0 0 -0.14763"
      rpy="0 0 0" />
    <parent
      link="Left_Thigh_Joint" />
    <child
      link="Left_Calf_Link" />
    <axis
      xyz="0 0 0" />
  </joint>
  <link
    name="Left_Calf_Joint">
    <inertial>
      <origin
        xyz="-0.0149429057817277 0.0258952607067396 3.17406045891033E-10"
        rpy="0 0 0" />
      <mass
        value="0.0736647083727734" />
      <inertia
        ixx="1.6170461970441E-05"
        ixy="-2.88599141150524E-07"
        ixz="-2.16737192274747E-12"
        iyy="2.46247283514012E-05"
        iyz="-5.19855701842151E-13"
        izz="2.86365059019946E-05" />
    </inertial>
    <visual>
      <origin
        xyz="0 0 0"
        rpy="0 0 0" />
      <geometry>
        <mesh
          filename="package://Humanoid_trial_v1/meshes/Left_Calf_Joint.STL" />
      </geometry>
      <material
        name="">
        <color
          rgba="0.792156862745098 0.819607843137255 0.933333333333333 1" />
      </material>
    </visual>
    <collision>
      <origin
        xyz="0 0 0"
        rpy="0 0 0" />
      <geometry>
        <mesh
          filename="package://Humanoid_trial_v1/meshes/Left_Calf_Joint_col.STL" />
      </geometry>
    </collision>
  </link>
  <joint
    name="Left_Calf_Joint"
    type="revolute">
    <origin
      xyz="0 0 0"
      rpy="0 0 0" />
    <parent
      link="Left_Calf_Link" />
    <child
      link="Left_Calf_Joint" />
    <axis
      xyz="0 1 0" />
    <limit
      lower="-3.14"
      upper="3.14"
      effort="6"
      velocity="6.59" />
  </joint>
  <link
    name="Left_Foot_Link">
    <inertial>
      <origin
        xyz="-0.0316673518136692 0.0260001299208334 -0.0229259131219174"
        rpy="0 0 0" />
      <mass
        value="0.154600582546389" />
      <inertia
        ixx="4.76169659971465E-05"
        ixy="1.07372462491056E-10"
        ixz="7.76247168442804E-06"
        iyy="0.000211560460583717"
        iyz="-2.63196108588119E-09"
        izz="0.00024538090046163" />
    </inertial>
    <visual>
      <origin
        xyz="0 0 0"
        rpy="0 0 0" />
      <geometry>
        <mesh
          filename="package://Humanoid_trial_v1/meshes/Left_Foot_Link.STL" />
      </geometry>
      <material
        name="">
        <color
          rgba="1 1 1 1" />
      </material>
    </visual>
    <collision>
      <origin
        xyz="0 0 0"
        rpy="0 0 0" />
      <geometry>
        <mesh
          filename="package://Humanoid_trial_v1/meshes/Left_Foot_Link_col.STL" />
      </geometry>
    </collision>
  </link>
  <joint
    name="Left_Foot_Link"
    type="fixed">
    <origin
      xyz="0 0 0"
      rpy="0 0 0" />
    <parent
      link="Left_Calf_Joint" />
    <child
      link="Left_Foot_Link" />
    <axis
      xyz="0 0 0" />
  </joint>
</robot>
